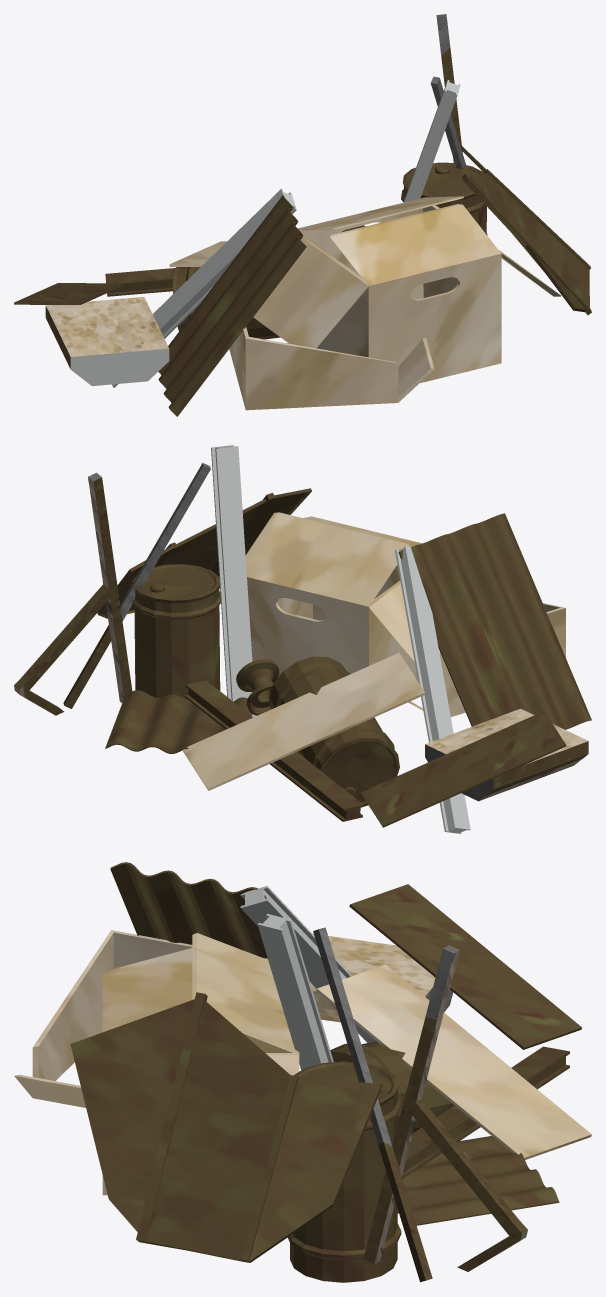
The model's file is Trash (3).fbx.
3 views of the same model, one above another, from view 1: azimuth 30°, elevation 25°; view 2: azimuth 150°, elevation 25°; view 3: azimuth 270°, elevation 25° (orthographic). The views are drawn at different scales.
Visible parts, largest first — view 1: Plane.029; view 2: Plane.029; view 3: Plane.029.
Boxes of the visible parts, x1=… form: Plane.029: x1=14, y1=14, x2=591, y2=416; Plane.029: x1=14, y1=445, x2=591, y2=833; Plane.029: x1=14, y1=862, x2=591, y2=1282.
Size of the model in its own units: 774 by 401 by 588.
